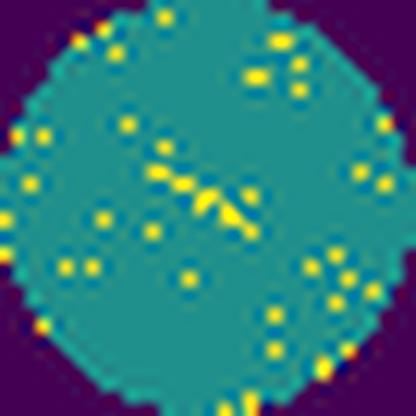Scratch: (143, 159, 260, 244)
